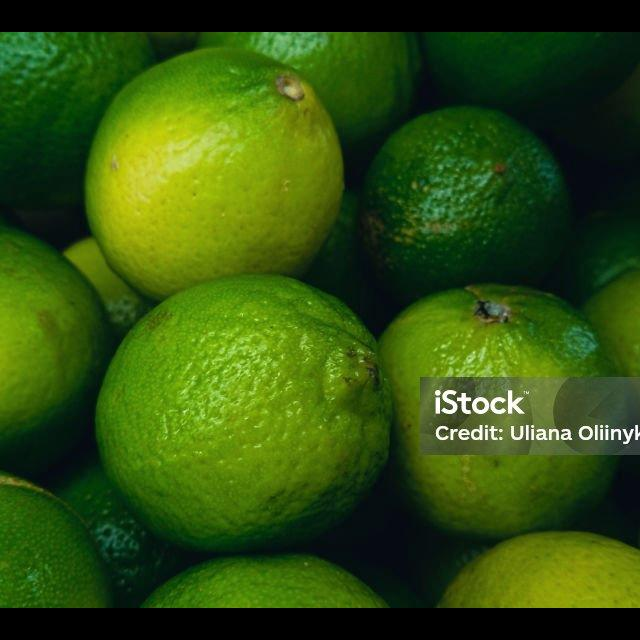lime: (93, 276, 393, 558)
